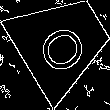O_NE: (31, 10, 95, 74)
